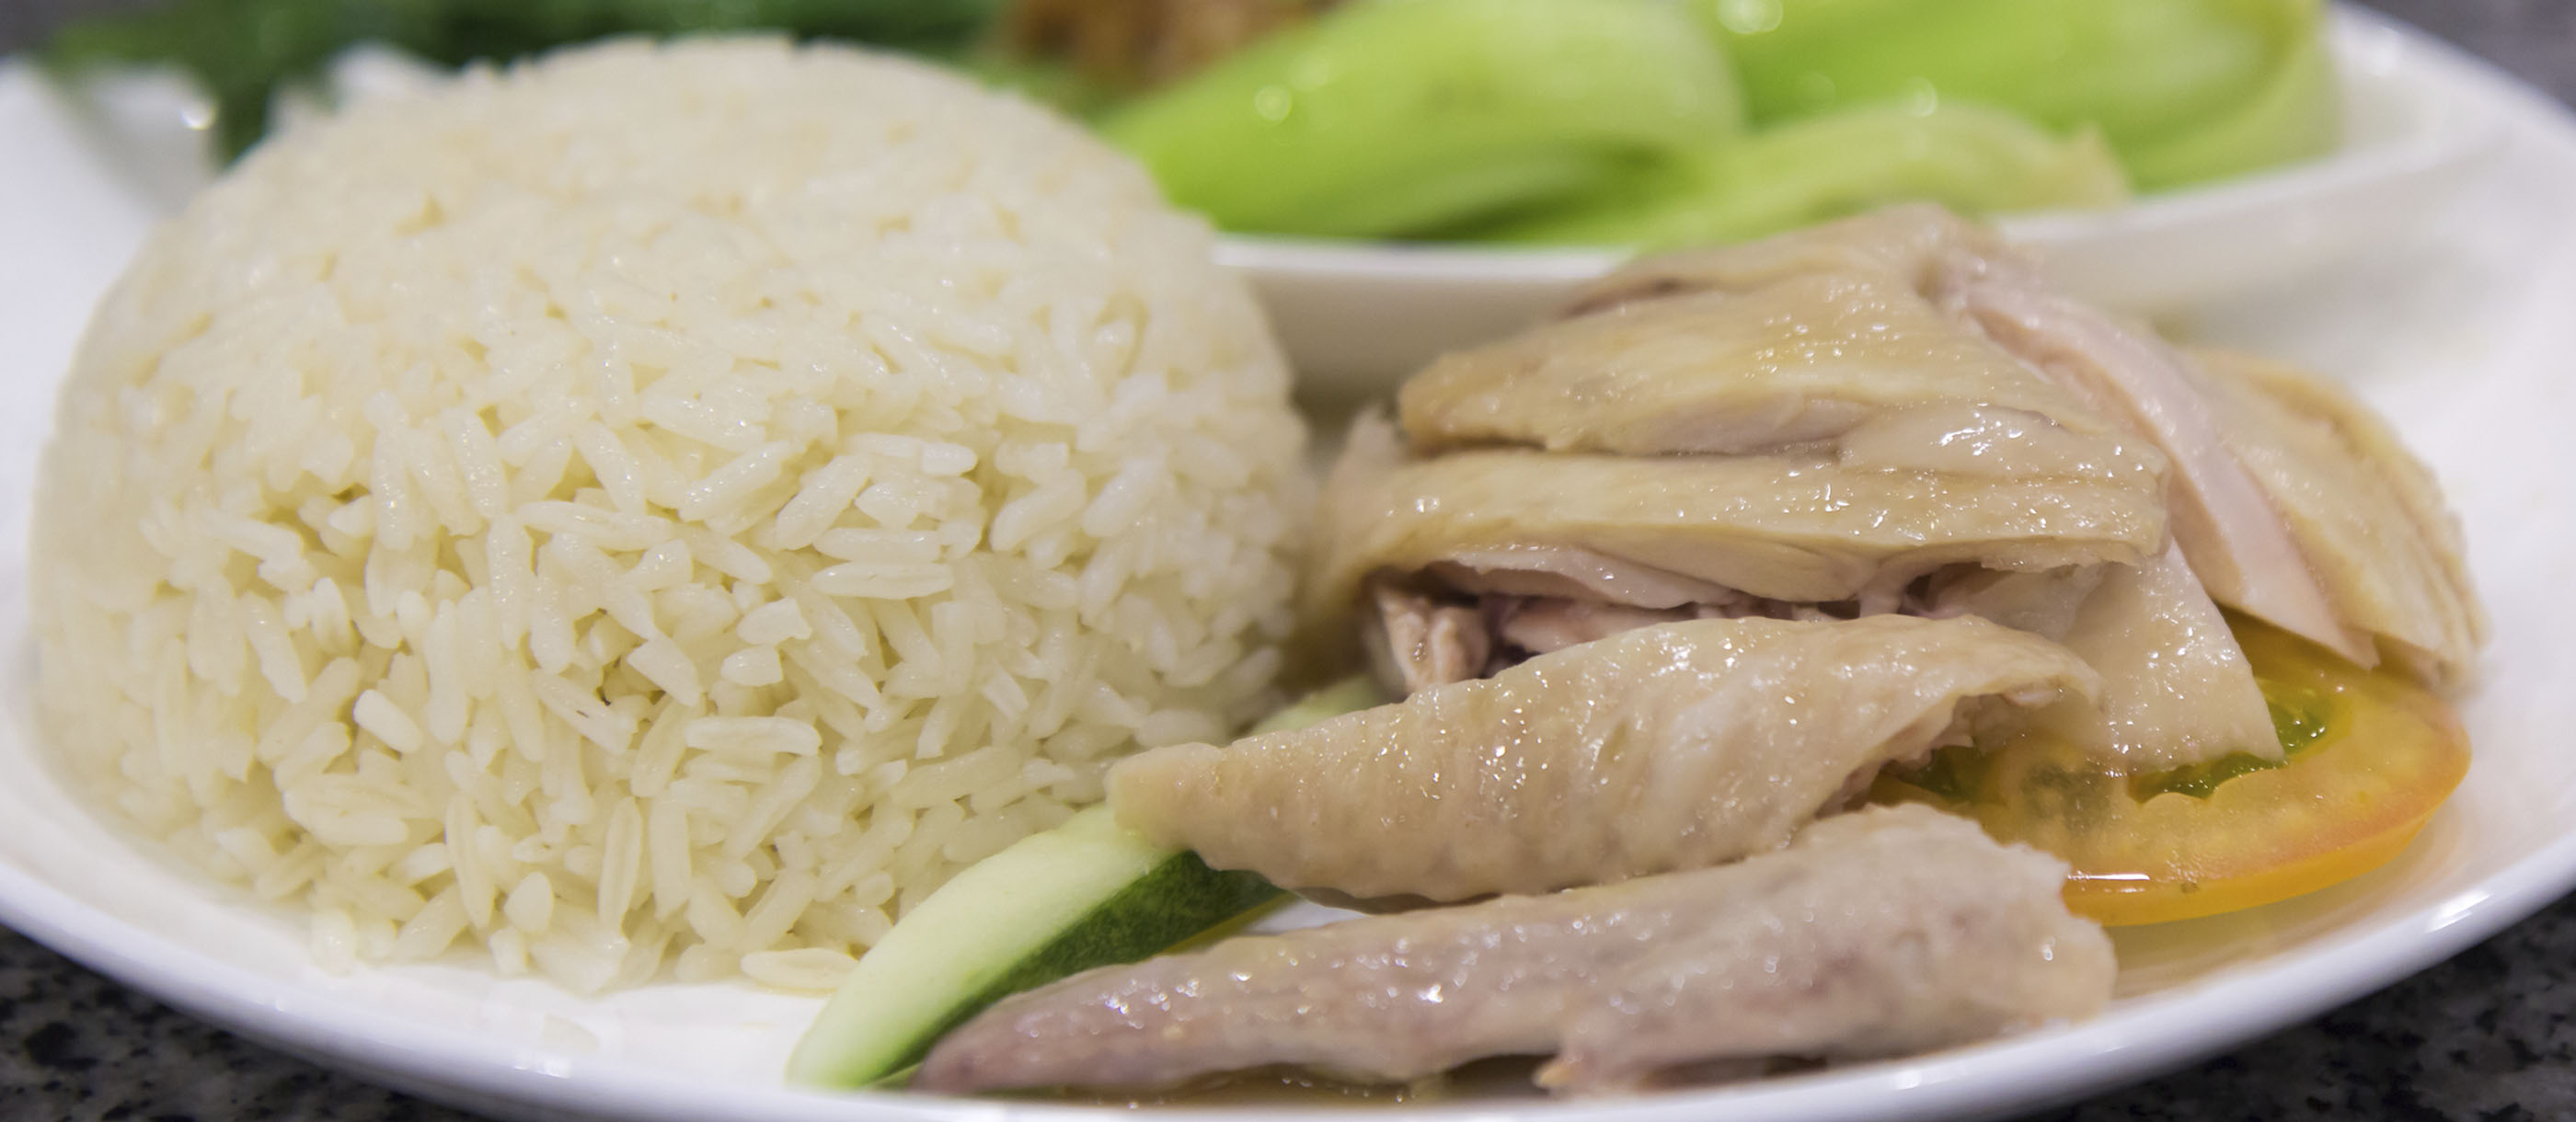Steamed Chicken Rice: (112, 92, 2459, 1060)
